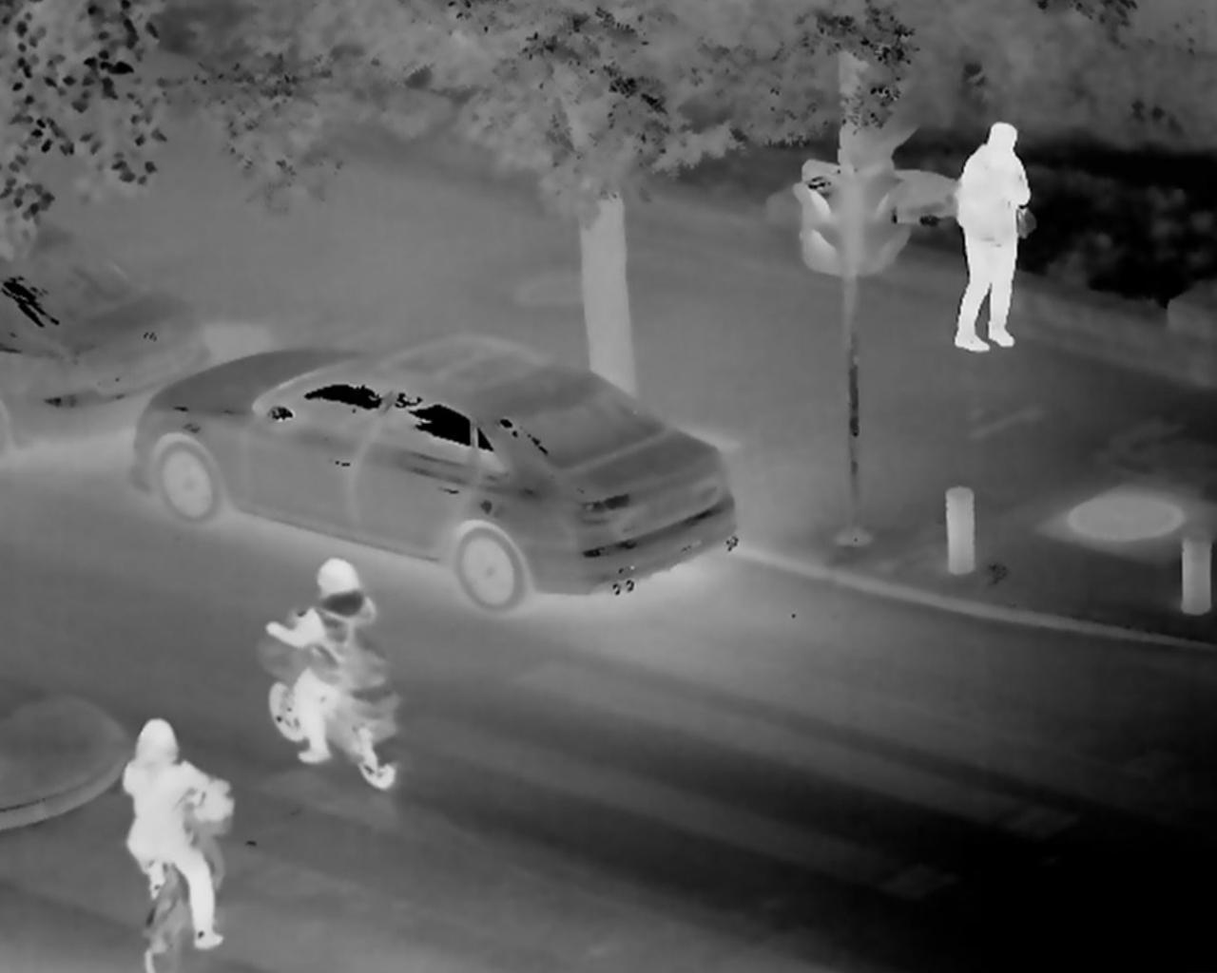person: (245, 547, 427, 786), (99, 720, 251, 968), (935, 111, 1036, 357)
